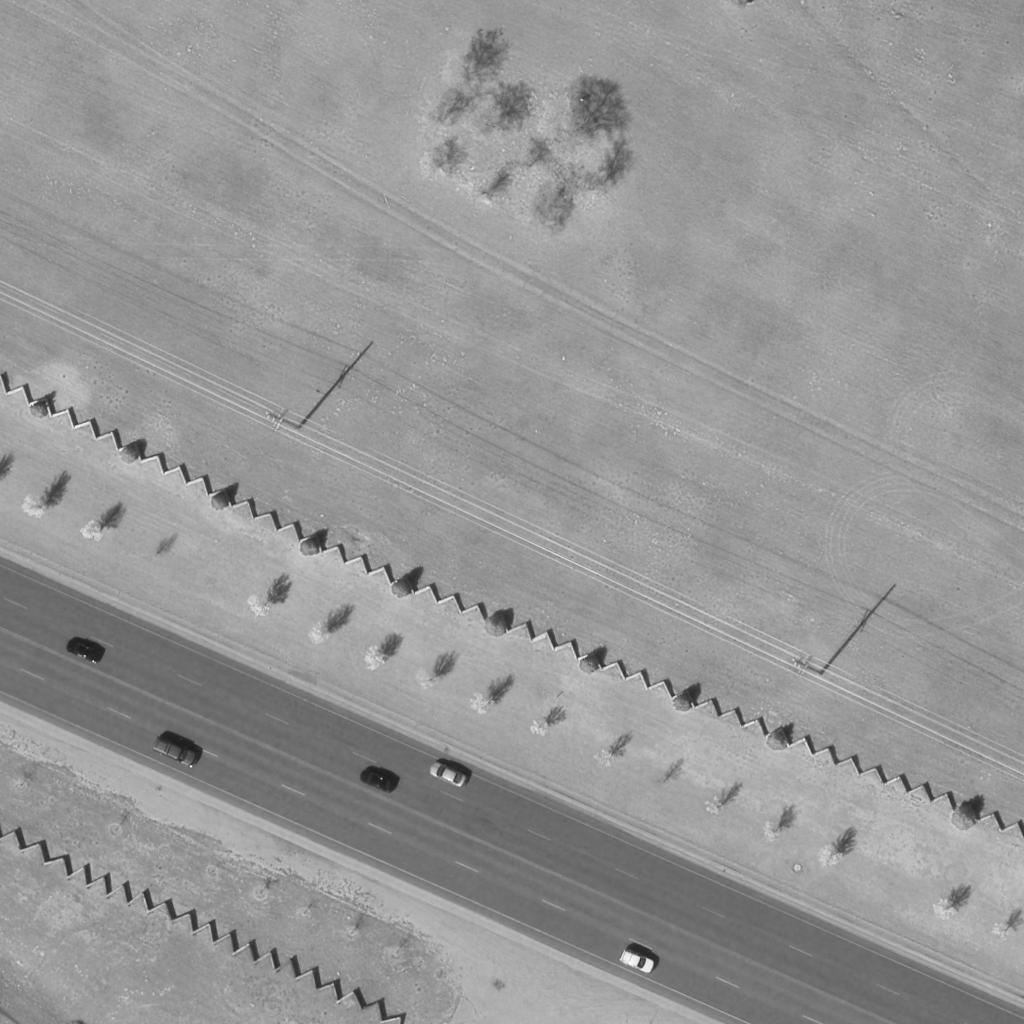vehicle: (151, 738, 201, 768), (65, 637, 107, 665), (619, 948, 657, 976), (428, 764, 466, 788), (359, 768, 395, 792)
